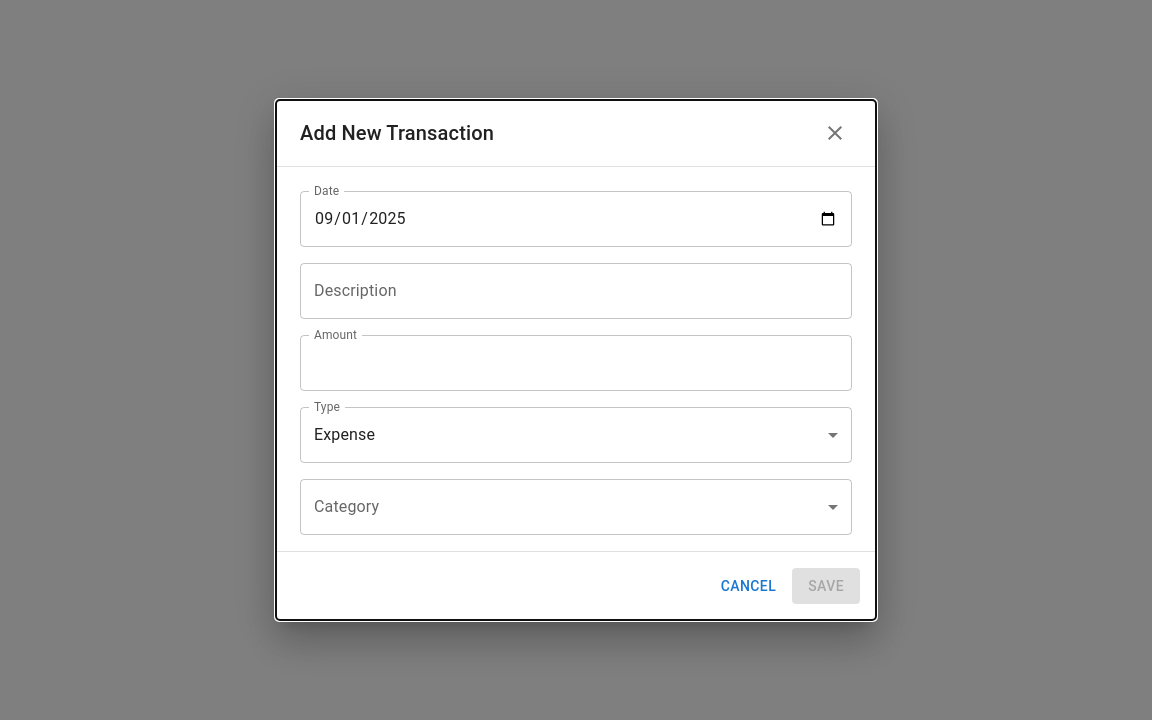
Test: TransactionFormModal › should disable the save button when description or amount is missing
Expected: the button "Save" is disabled, [792,568,860,604]
Step 1. Type "Test" into the field labelled "Description" → coordinates (576, 291), box [300,263,852,319]
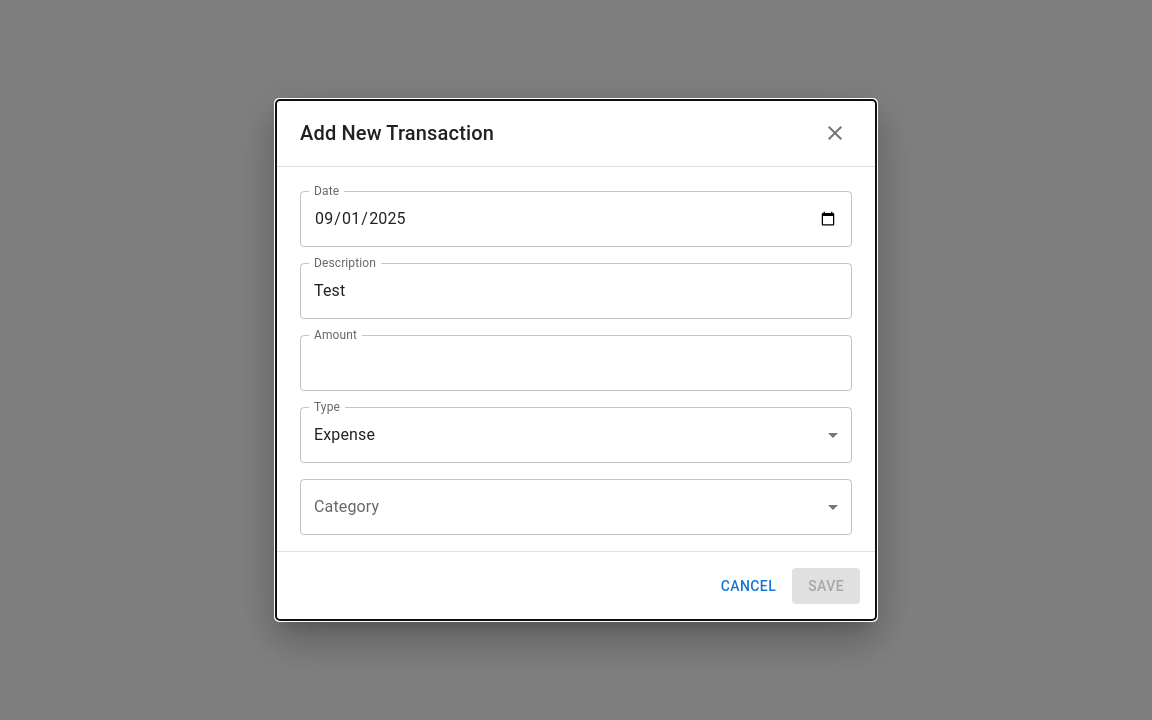
Expected: the button "Save" is disabled, [792,568,860,604]
Step 2. Type "100" into the number field labelled "Amount" → coordinates (576, 363), box [300,335,852,391]
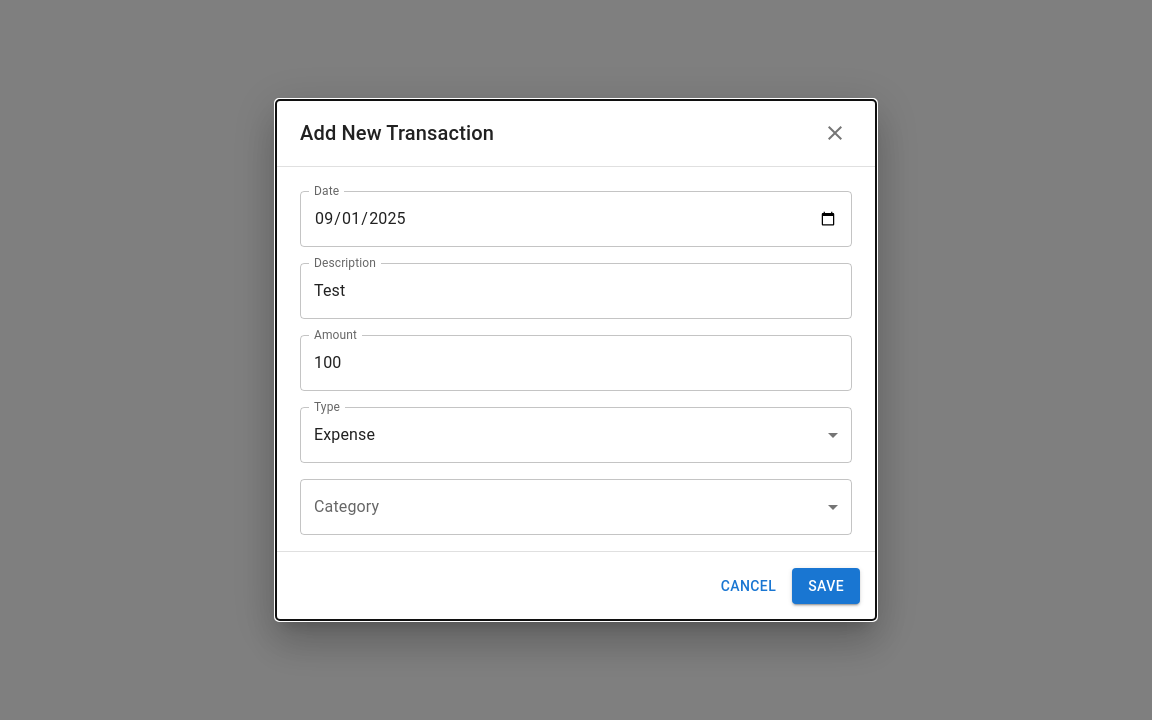
Expected: the button "Save" is enabled, [792,568,860,604]
